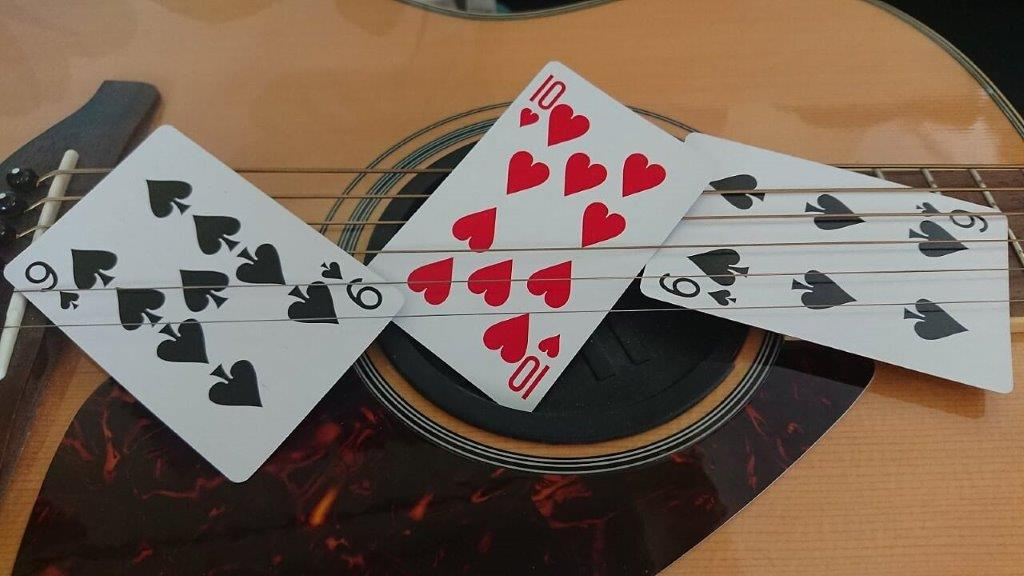10H: (516, 71, 567, 131)
9S: (21, 258, 81, 314)
